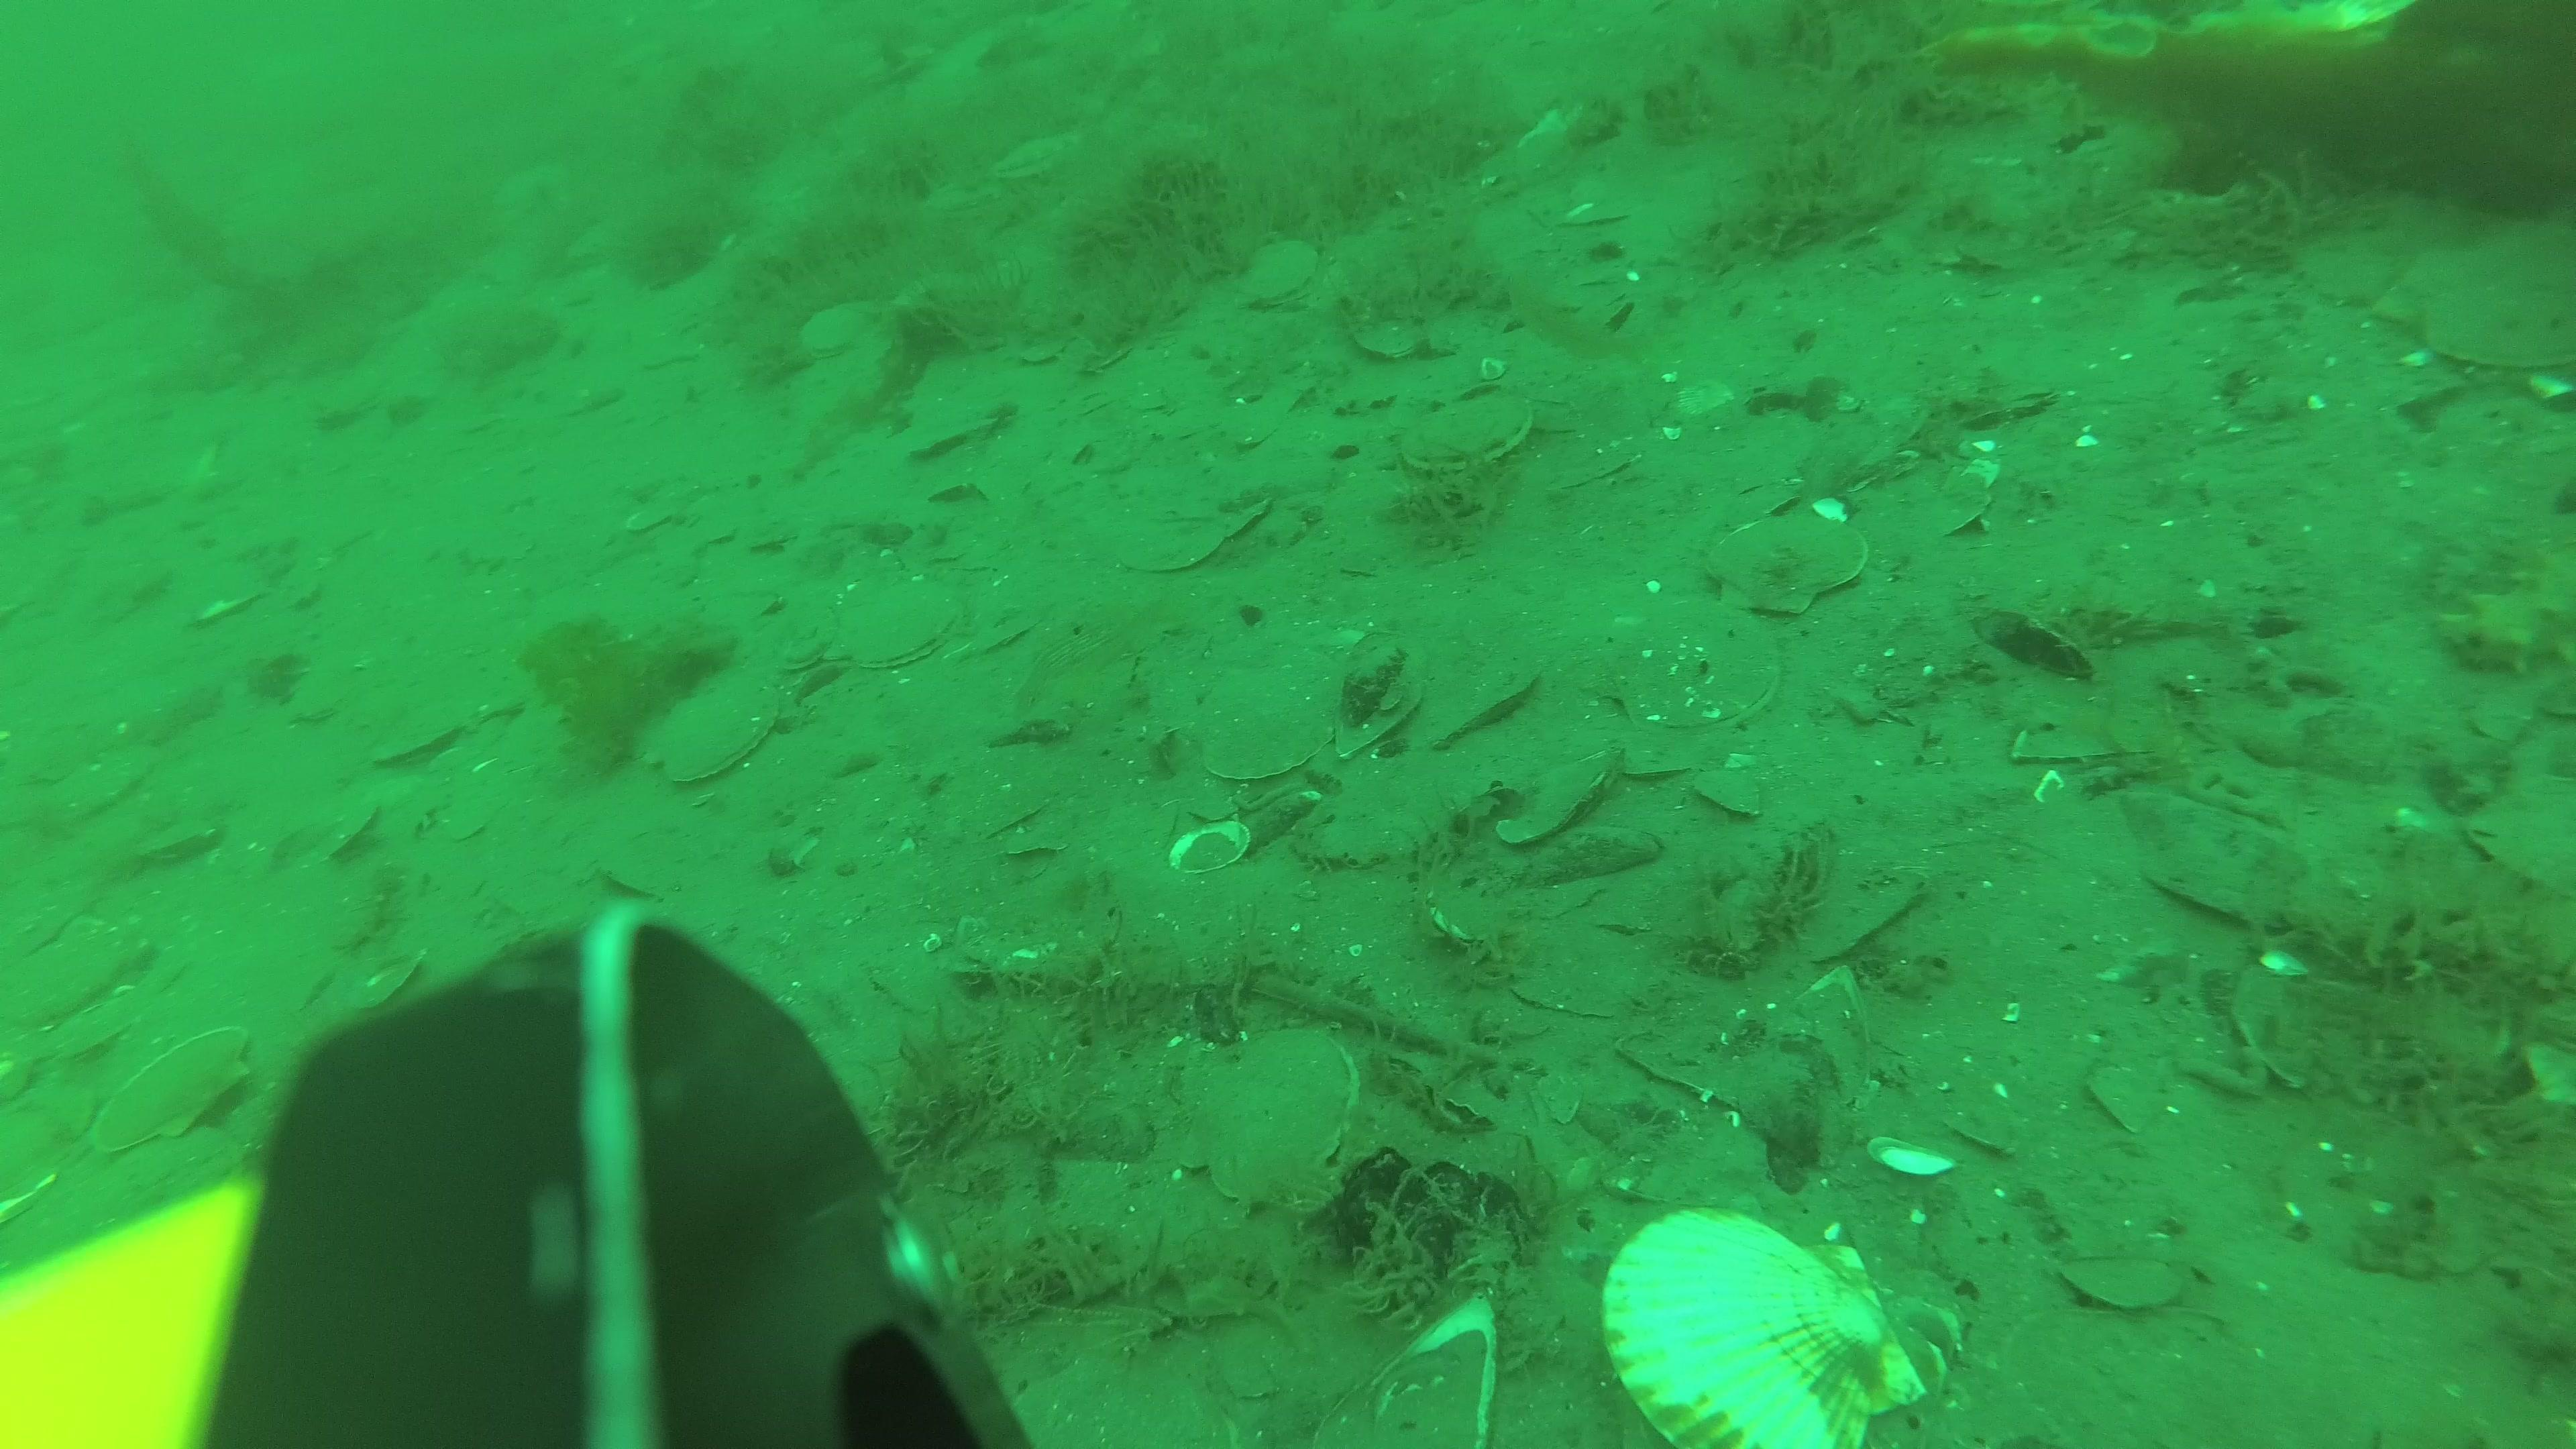scallop: (1603, 1200, 1927, 1449), (1185, 1012, 1355, 1207), (2378, 230, 2576, 380), (1612, 607, 1794, 743), (1700, 508, 1877, 625), (96, 1031, 249, 1159), (630, 672, 789, 789), (1470, 734, 1621, 847), (1398, 633, 1541, 752), (1189, 674, 1334, 791), (826, 575, 966, 676), (1401, 398, 1539, 479), (2063, 1254, 2197, 1330), (1233, 234, 1323, 313), (1683, 754, 1771, 819), (1603, 724, 1698, 782), (805, 301, 865, 361)
